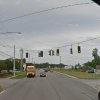Traffic light: (20, 43, 82, 60)
